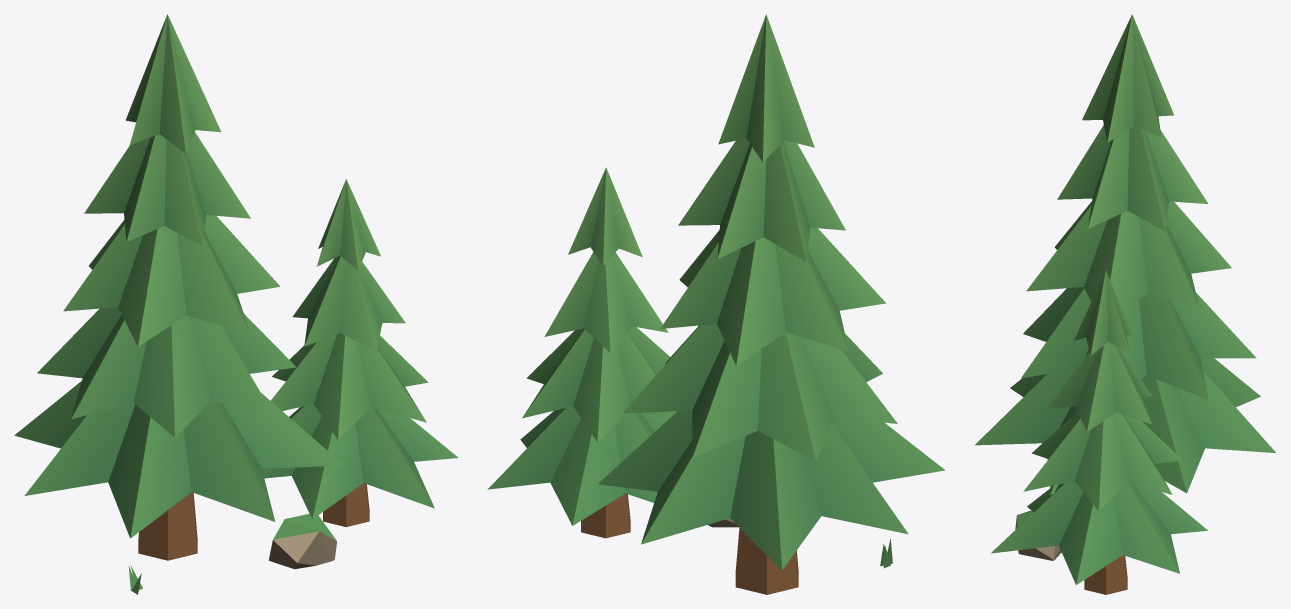
File: ranch_border_pine_twin.fbx
3 views of the same model, side by side, from view 1: azimuth 30°, elevation 25°; view 2: azimuth 150°, elevation 25°; view 3: azimuth 270°, elevation 25° (orthographic). The views are drawn at different scales.
Visible parts, largest first — view 1: ranch_border_pine_twin; view 2: ranch_border_pine_twin; view 3: ranch_border_pine_twin.
Part boxes in pixels (bbox=[...]): ranch_border_pine_twin: bbox=[14, 14, 458, 594]; ranch_border_pine_twin: bbox=[487, 14, 944, 594]; ranch_border_pine_twin: bbox=[975, 14, 1276, 594].
Size of the model in its own units: 15.52 by 19.72 by 10.9.
